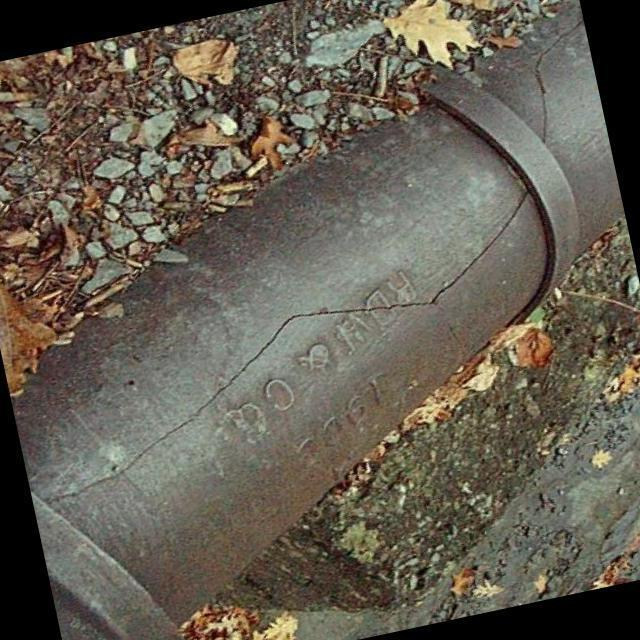defect: (37, 188, 529, 508), (529, 15, 580, 147)
